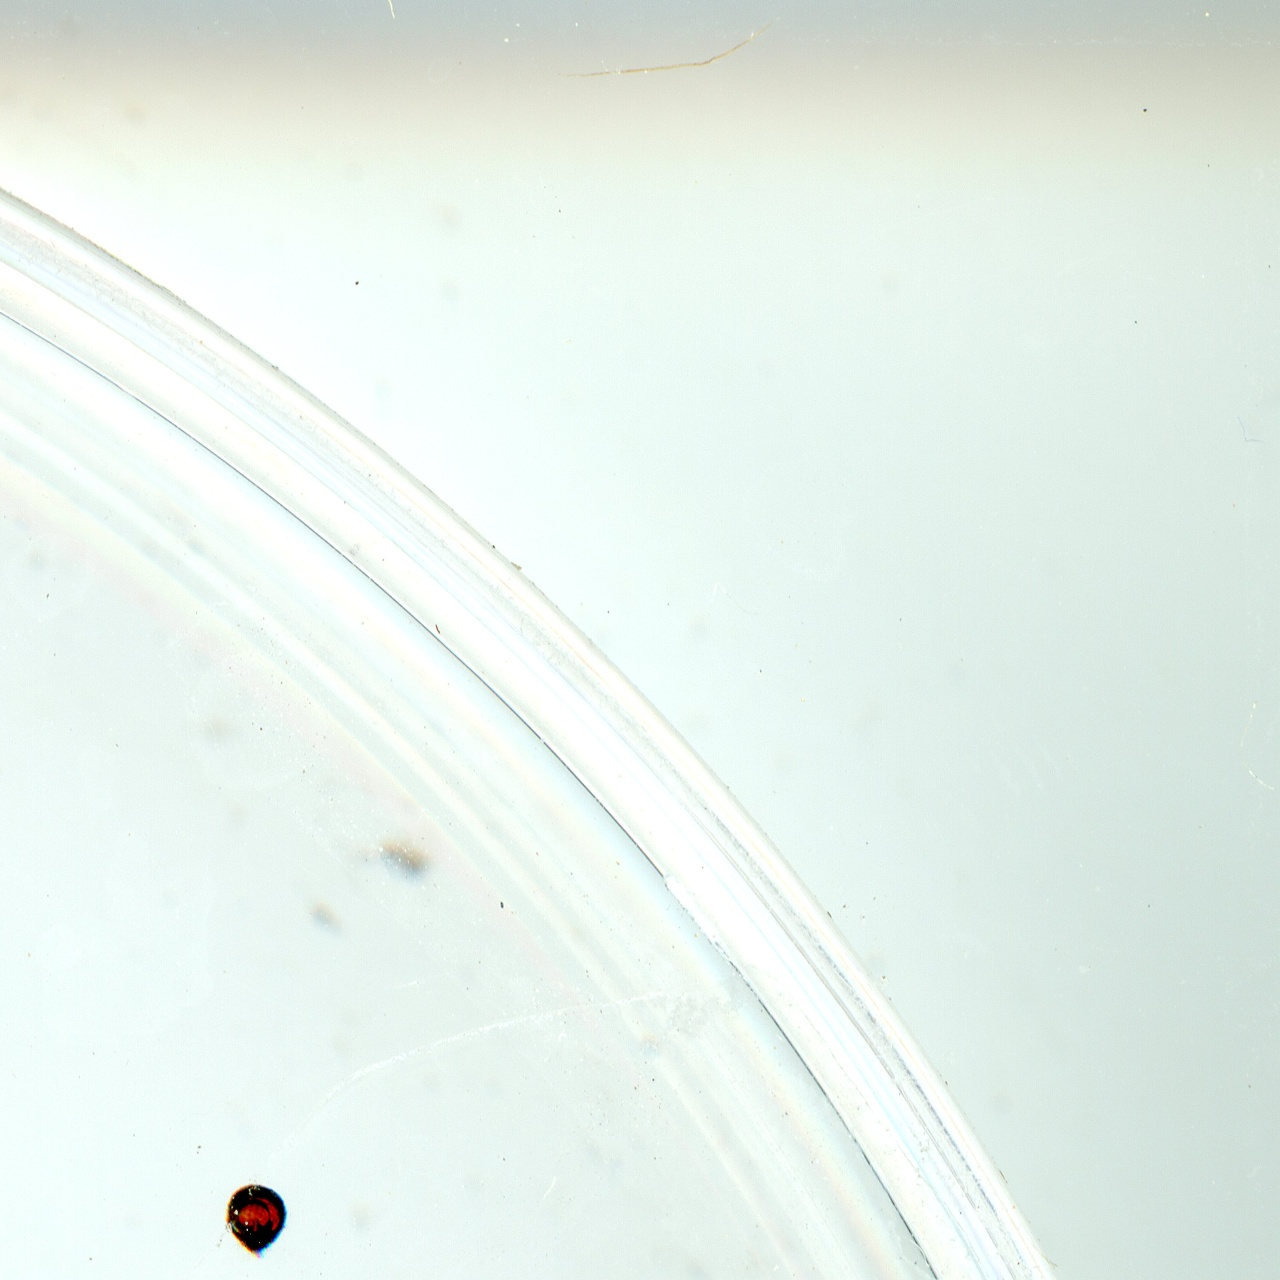arthropod: (222, 1183, 291, 1259)
